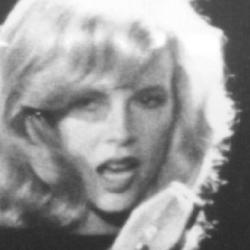face: (1, 1, 228, 224)
